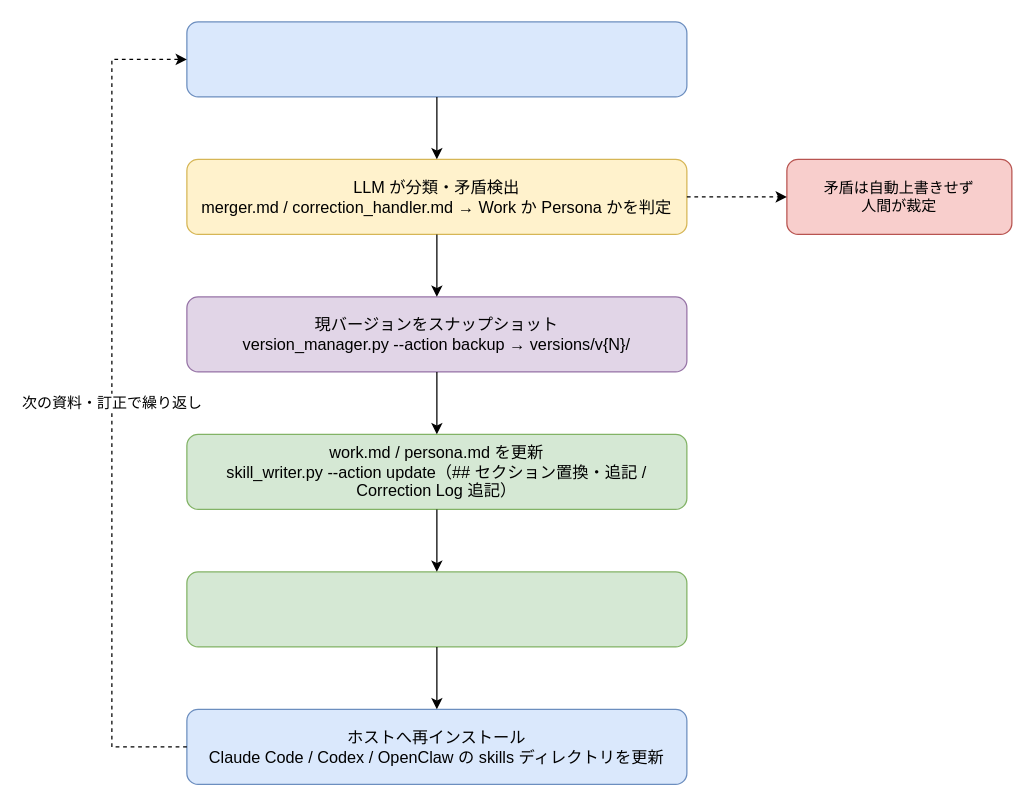
Some shapes in this 1034 by 806 pixel diagram are drawn without their labels. Here are the shapes that lost their labels. From the top down, the centre of each, then its label:
At point (436, 59): "入力 新資料の追加（ルート1） / 会話での訂正（ルート2）".
At point (436, 609): "SKILL.md を再レンダリング work.md + persona.md からテンプレートで合成".
